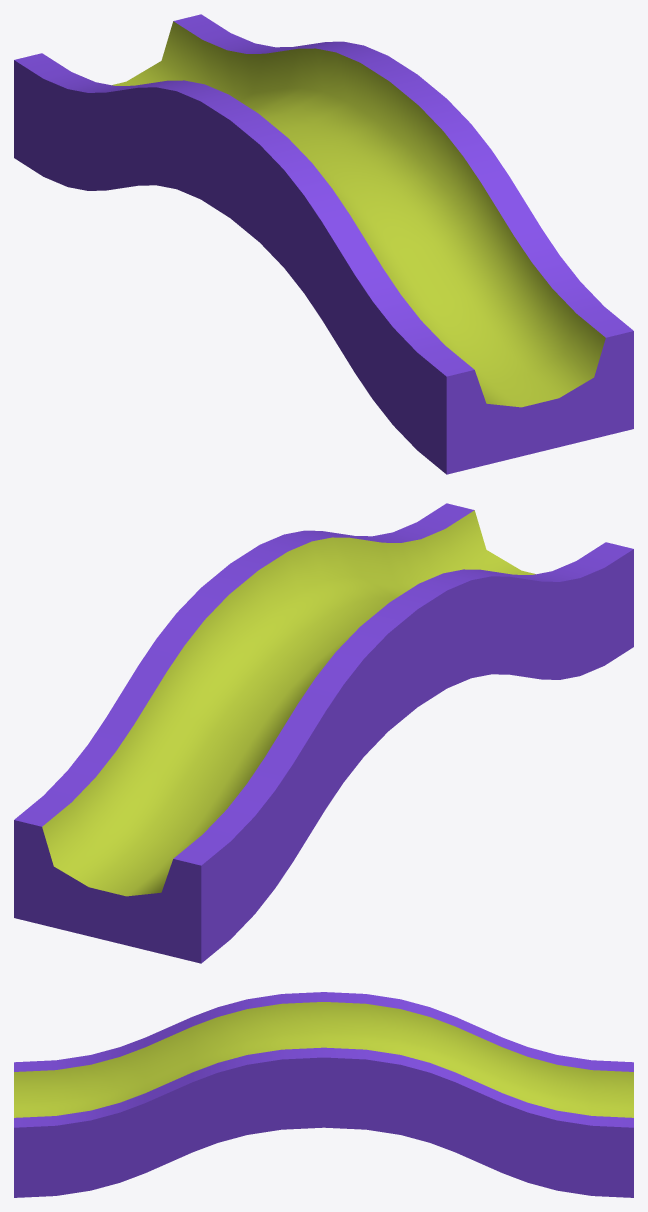
The model's file is bump_B-col.dae.
The picture shows the model from 3 angles, top to bottom: view 1: azimuth 30°, elevation 25°; view 2: azimuth 150°, elevation 25°; view 3: azimuth 270°, elevation 25°; orthographic projection. The views are drawn at different scales.
Parts seen in each view (by area): view 1: bump_B-col; view 2: bump_B-col; view 3: bump_B-col.
Boxes of the visible parts, x1=… form: bump_B-col: x1=14, y1=14, x2=633, y2=474; bump_B-col: x1=14, y1=503, x2=633, y2=963; bump_B-col: x1=14, y1=992, x2=633, y2=1197.
Bounding box in the file's own units: 1 × 4 × 1.
